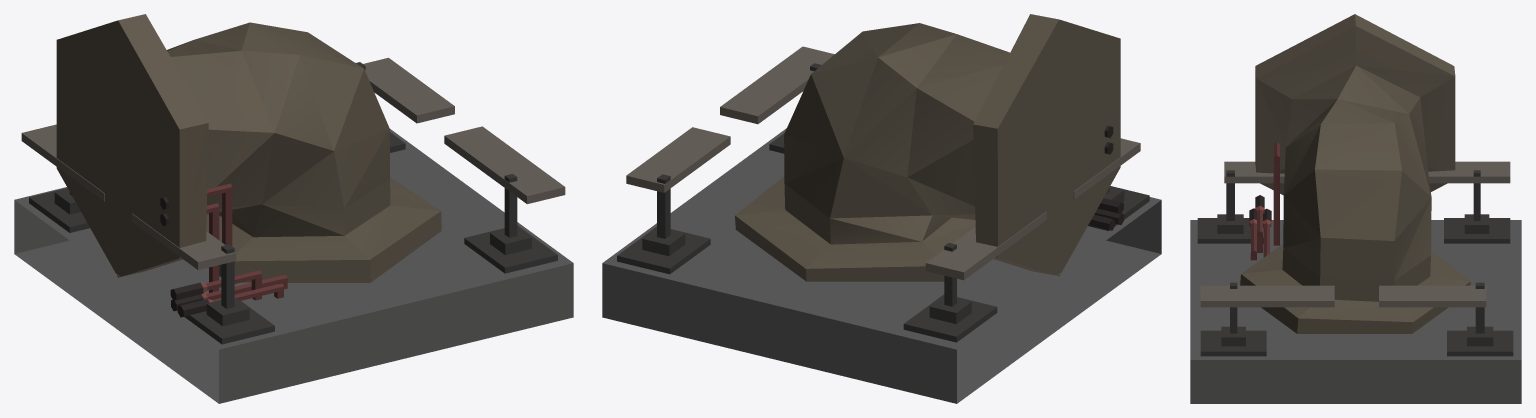
The model's file is pipe-up.gltf.
The picture shows the model from 3 angles, left to right: view 1: azimuth 30°, elevation 25°; view 2: azimuth 150°, elevation 25°; view 3: azimuth 270°, elevation 25°; orthographic projection. The views are drawn at different scales.
Parts seen in each view (by area): view 1: skret w dol; view 2: skret w dol; view 3: skret w dol.
Part boxes in pixels (x1,y1,x2,y2): skret w dol: [14, 14, 573, 403]; skret w dol: [602, 14, 1161, 403]; skret w dol: [1190, 14, 1521, 403].
Bounding box in the file's own units: 2.01 × 1.66 × 2.
1 material, 1 textured.
